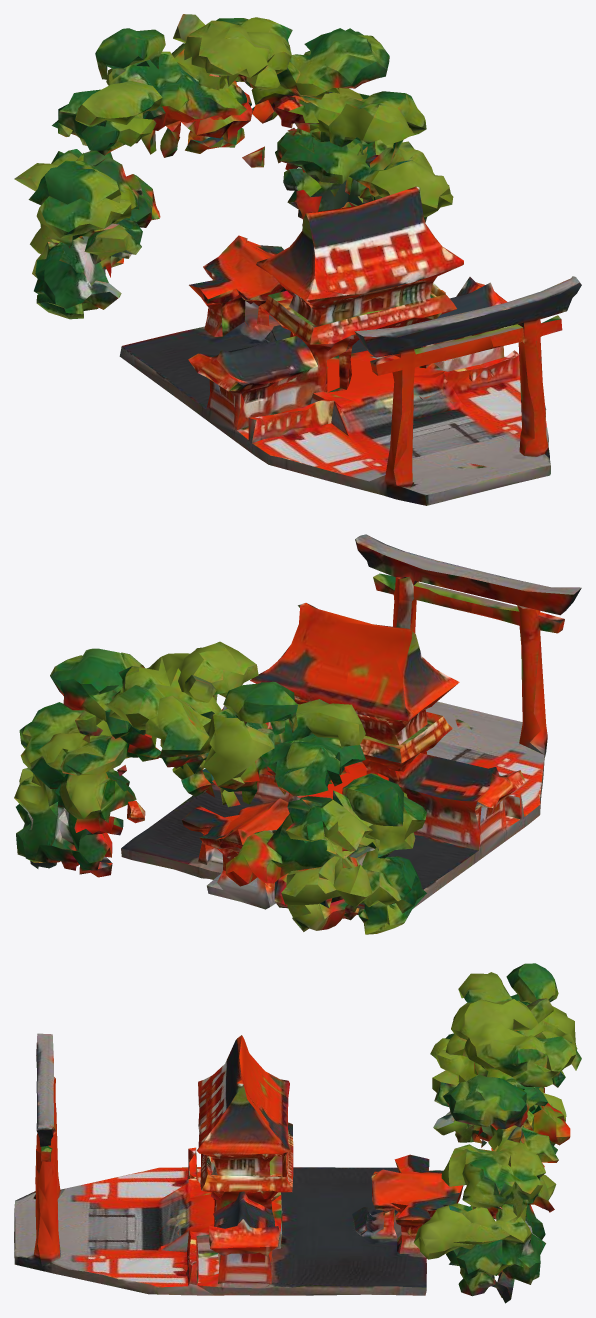
Rendered from ikuta-shrine.glb.
3 views of the same model, one above another, from view 1: azimuth 30°, elevation 25°; view 2: azimuth 150°, elevation 25°; view 3: azimuth 270°, elevation 25° (orthographic). The views are drawn at different scales.
Parts seen in each view (by area): view 1: logan-textured.obj; view 2: logan-textured.obj; view 3: logan-textured.obj.
Boxes of the visible parts, x1=… form: logan-textured.obj: x1=14, y1=14, x2=581, y2=505; logan-textured.obj: x1=14, y1=534, x2=581, y2=934; logan-textured.obj: x1=14, y1=963, x2=581, y2=1303.
Size of the model in its own units: 0.7121 by 0.4731 by 1.
1 material, 1 textured.
